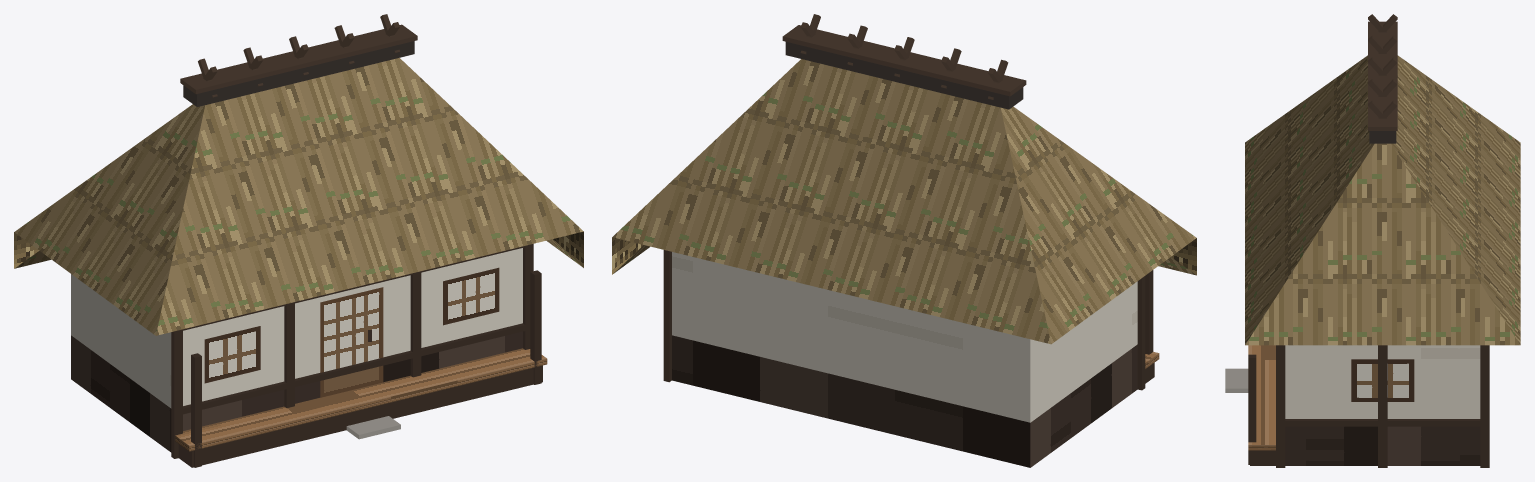
Rendered from farmhouse.glb.
3 renders of one model, left to right at view 1: azimuth 30°, elevation 25°; view 2: azimuth 150°, elevation 25°; view 3: azimuth 270°, elevation 25°, orthographic. The views are drawn at different scales.
Visible parts, largest first — view 1: _MeshInstance3D_50, _MeshInstance3D_32, _MeshInstance3D_31, _MeshInstance3D_45, _MeshInstance3D_44, _MeshInstance3D_66, _MeshInstance3D_55, _MeshInstance3D_54, _MeshInstance3D_40, _MeshInstance3D_68, _MeshInstance3D_67, _MeshInstance3D_33 (+8 smaller); view 2: _MeshInstance3D_50, _MeshInstance3D_32, _MeshInstance3D_31, _MeshInstance3D_55, _MeshInstance3D_54, _MeshInstance3D_37, _MeshInstance3D_52, _MeshInstance3D_33, _MeshInstance3D_46; view 3: _MeshInstance3D_50, _MeshInstance3D_32, _MeshInstance3D_31, _MeshInstance3D_69, _MeshInstance3D_45, _MeshInstance3D_55, _MeshInstance3D_41, _MeshInstance3D_37, _MeshInstance3D_38, _MeshInstance3D_47, _MeshInstance3D_36, _MeshInstance3D_48 (+3 smaller).
Boxes of the visible parts, bbox=[...] form: _MeshInstance3D_50: bbox=[14, 58, 583, 335]; _MeshInstance3D_32: bbox=[71, 248, 522, 408]; _MeshInstance3D_31: bbox=[71, 331, 522, 452]; _MeshInstance3D_45: bbox=[175, 348, 547, 451]; _MeshInstance3D_44: bbox=[178, 365, 542, 467]; _MeshInstance3D_66: bbox=[320, 287, 383, 397]; _MeshInstance3D_55: bbox=[180, 24, 417, 94]; _MeshInstance3D_54: bbox=[183, 41, 414, 106]; _MeshInstance3D_40: bbox=[175, 323, 530, 416]; _MeshInstance3D_68: bbox=[443, 267, 499, 325]; _MeshInstance3D_67: bbox=[204, 326, 260, 383]; _MeshInstance3D_33: bbox=[171, 330, 182, 458]; _MeshInstance3D_50: bbox=[612, 59, 1196, 344]; _MeshInstance3D_32: bbox=[672, 252, 1137, 422]; _MeshInstance3D_31: bbox=[672, 335, 1137, 467]; _MeshInstance3D_55: bbox=[782, 25, 1026, 96]; _MeshInstance3D_54: bbox=[785, 42, 1023, 109]; _MeshInstance3D_37: bbox=[663, 250, 671, 382]; _MeshInstance3D_52: bbox=[612, 237, 1196, 275]; _MeshInstance3D_33: bbox=[1137, 276, 1145, 390]; _MeshInstance3D_46: bbox=[1145, 270, 1153, 354]; _MeshInstance3D_50: bbox=[1245, 55, 1520, 345]; _MeshInstance3D_32: bbox=[1285, 345, 1480, 418]; _MeshInstance3D_31: bbox=[1285, 426, 1480, 465]; _MeshInstance3D_69: bbox=[1351, 359, 1414, 401]; _MeshInstance3D_45: bbox=[1248, 345, 1275, 450]; _MeshInstance3D_55: bbox=[1368, 21, 1397, 130]; _MeshInstance3D_41: bbox=[1276, 419, 1488, 426]; _MeshInstance3D_37: bbox=[1480, 345, 1489, 467]; _MeshInstance3D_38: bbox=[1378, 345, 1387, 467]; _MeshInstance3D_47: bbox=[1248, 354, 1256, 464]; _MeshInstance3D_36: bbox=[1276, 345, 1281, 467]; _MeshInstance3D_48: bbox=[1225, 368, 1248, 392].
Bounding box in the file's own units: 6.1 × 4.55 × 3.75.
Materials: 13 (9 with a texture image).
